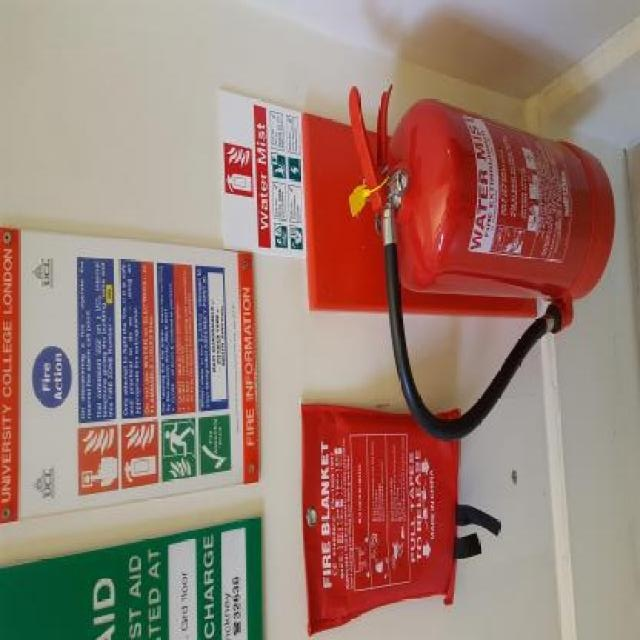fire extinguisher: (349, 87, 614, 441)
